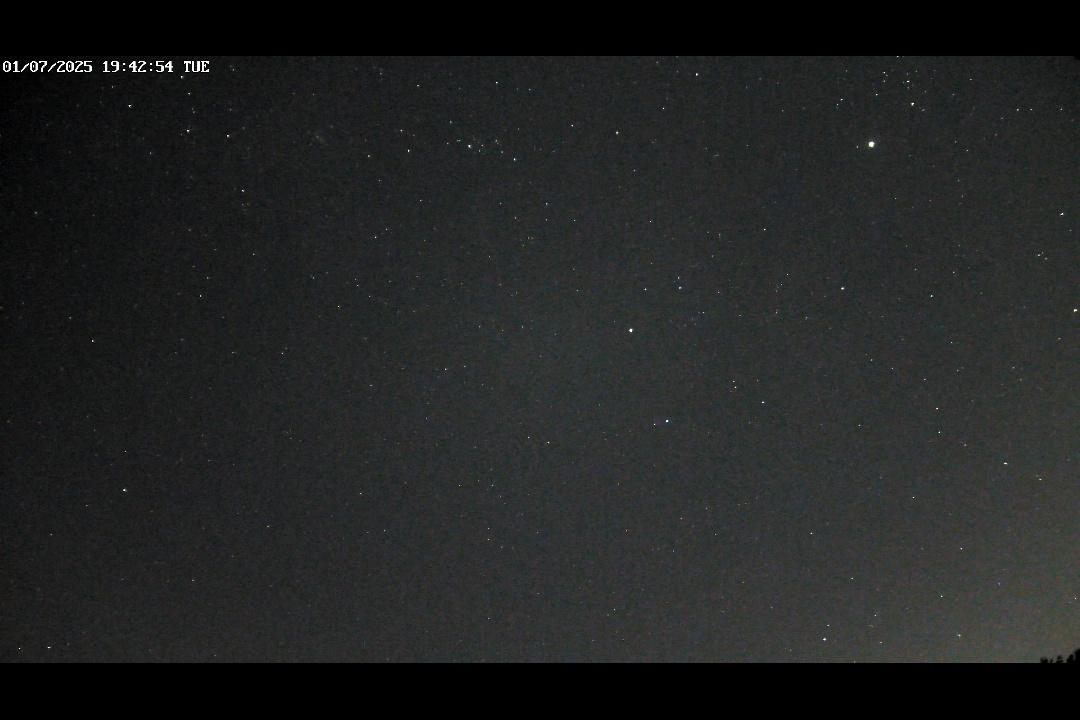Plane: (926, 593, 946, 609), (953, 629, 965, 655)
